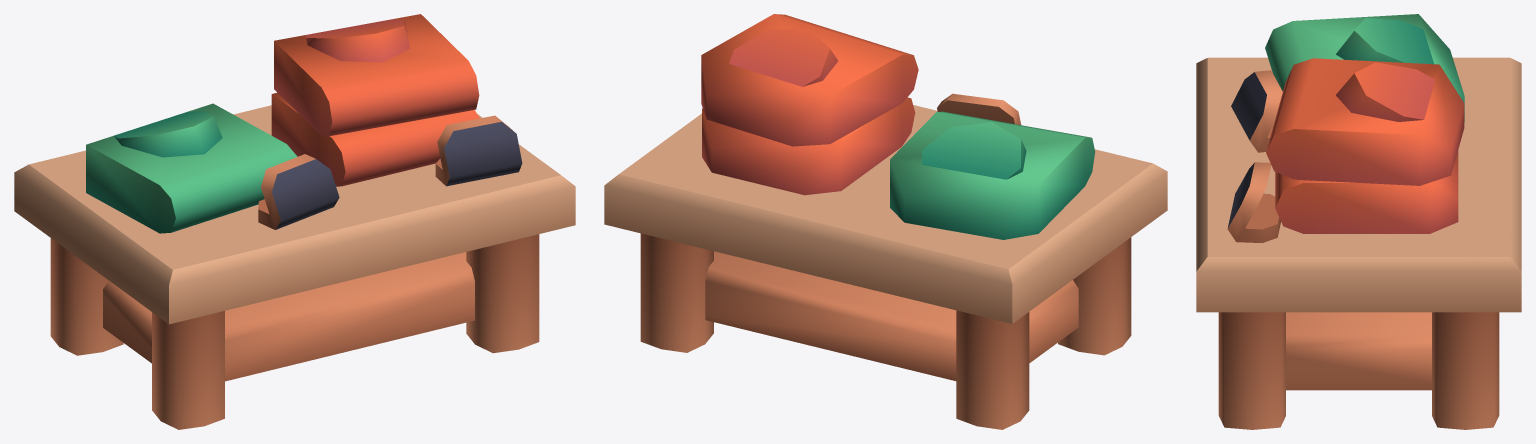
Rendered from clothing-table.glb.
The picture shows the model from 3 angles, left to right: view 1: azimuth 30°, elevation 25°; view 2: azimuth 150°, elevation 25°; view 3: azimuth 270°, elevation 25°; orthographic projection. The views are drawn at different scales.
Parts seen in each view (by area): view 1: clothing-table, clothing (×3); view 2: clothing-table, clothing (×3); view 3: clothing-table, clothing (×3).
Part boxes in pixels (bbox=[...]): clothing-table: bbox=[14, 105, 575, 429]; clothing (×3): bbox=[86, 14, 479, 233]; clothing-table: bbox=[604, 93, 1167, 429]; clothing (×3): bbox=[701, 14, 1095, 239]; clothing-table: bbox=[1196, 57, 1521, 429]; clothing (×3): bbox=[1265, 14, 1464, 233].
Size of the model in its own units: 0.88 by 0.595 by 0.58.
Materials: 1 (1 with a texture image).
